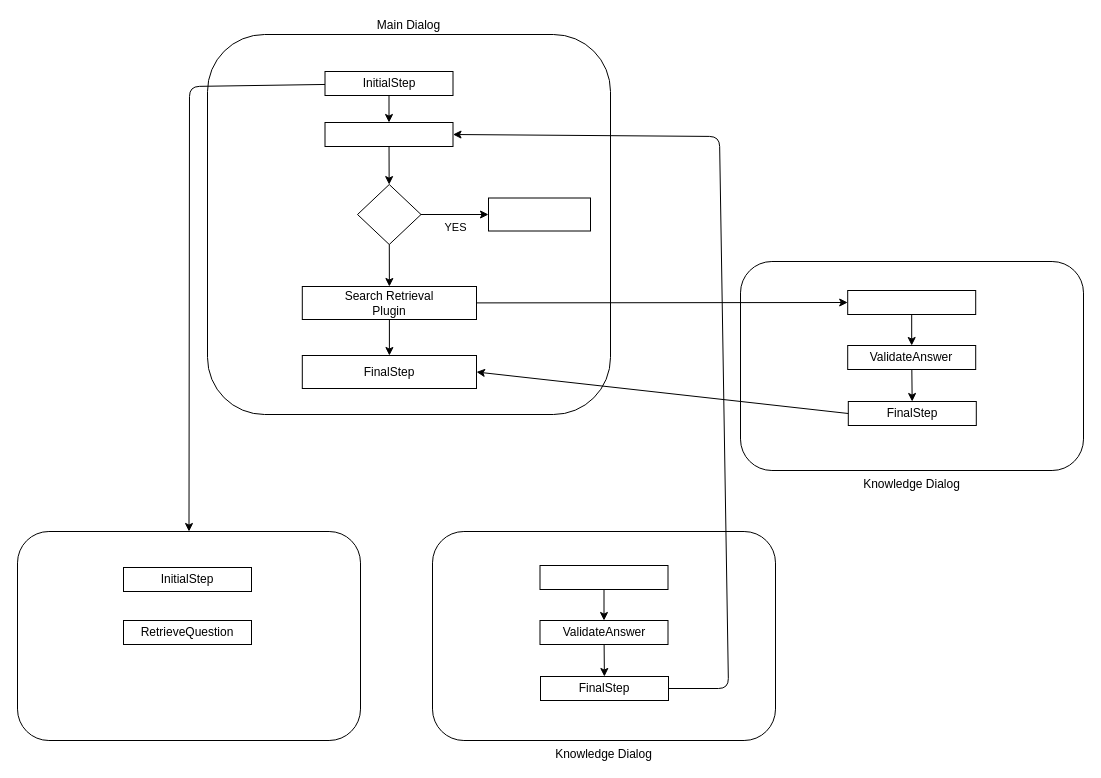
Some shapes in this 1101 by 778 pixel diagram are drawn without their labels. The shapes that lost their labels are listed below. From the top down, each one's box as (x1, y1, x2, y2) in pixels, then its label:
(324, 122, 453, 146): SearchKB
(356, 184, 421, 244): Answer Found
(488, 197, 590, 231): End Conversation
(847, 290, 976, 314): SearchExtendedSource
(539, 564, 668, 590): SearchInKB
(16, 530, 360, 740): Greeting Dialog
